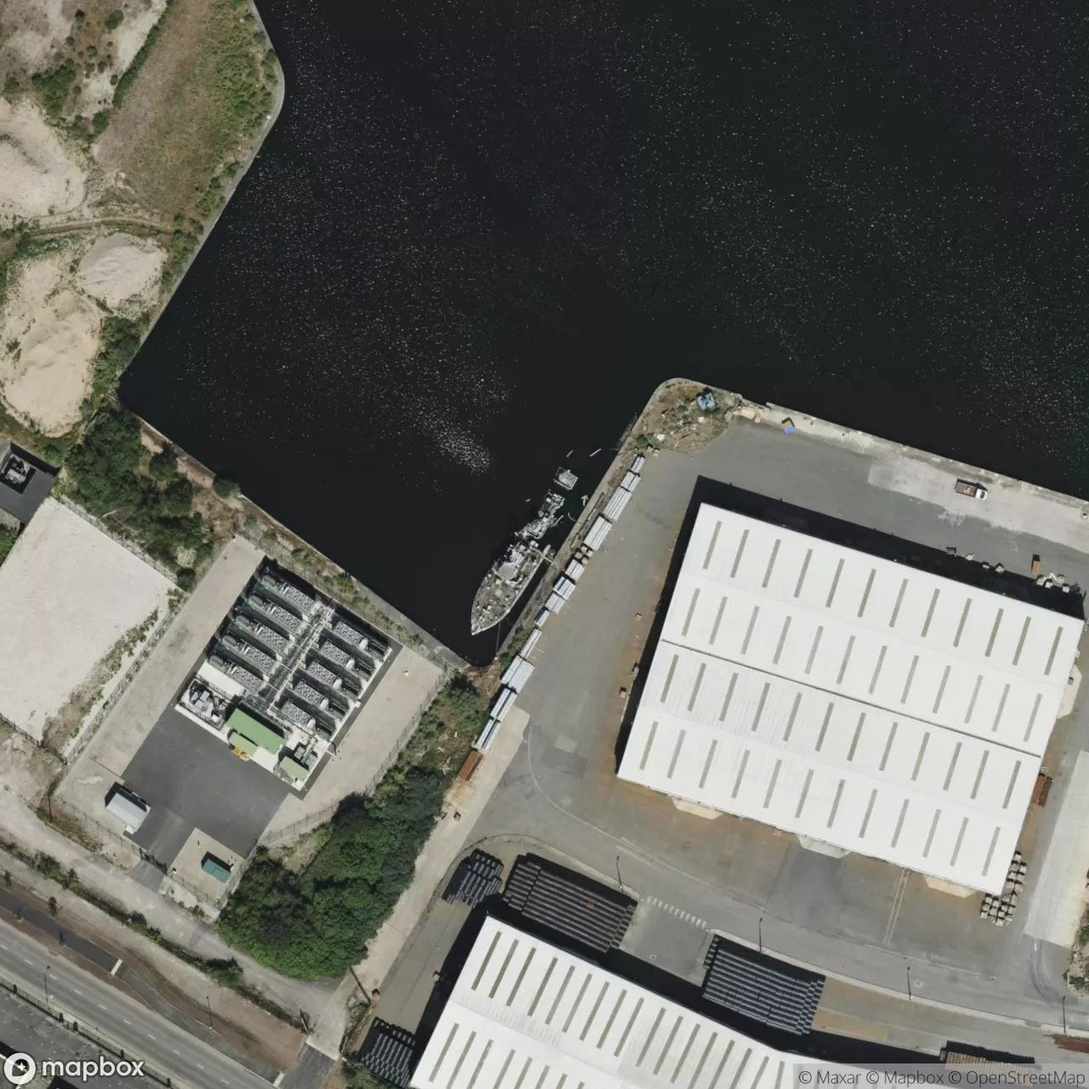Wreck: (415, 603, 638, 703)
